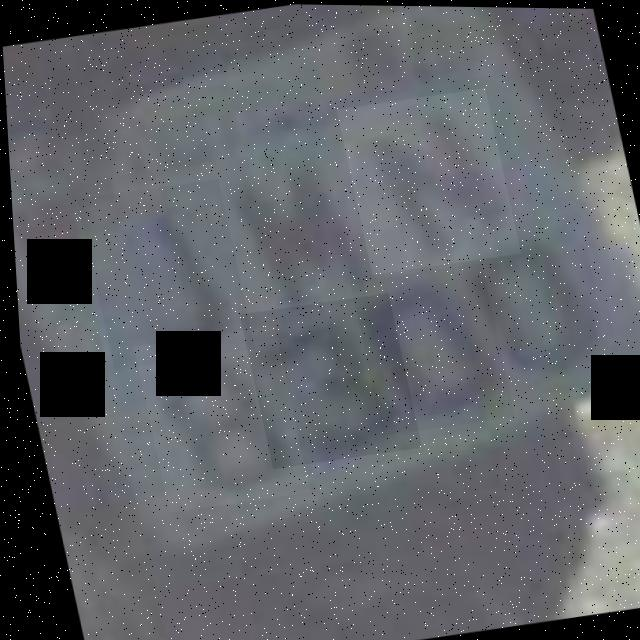0: (440, 208, 621, 403), (345, 260, 512, 436)
3: (234, 290, 418, 470)
8: (128, 324, 306, 514)
J: (74, 176, 252, 371)
N: (334, 85, 519, 276), (203, 136, 383, 324)
